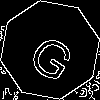G: (25, 25, 83, 85)
